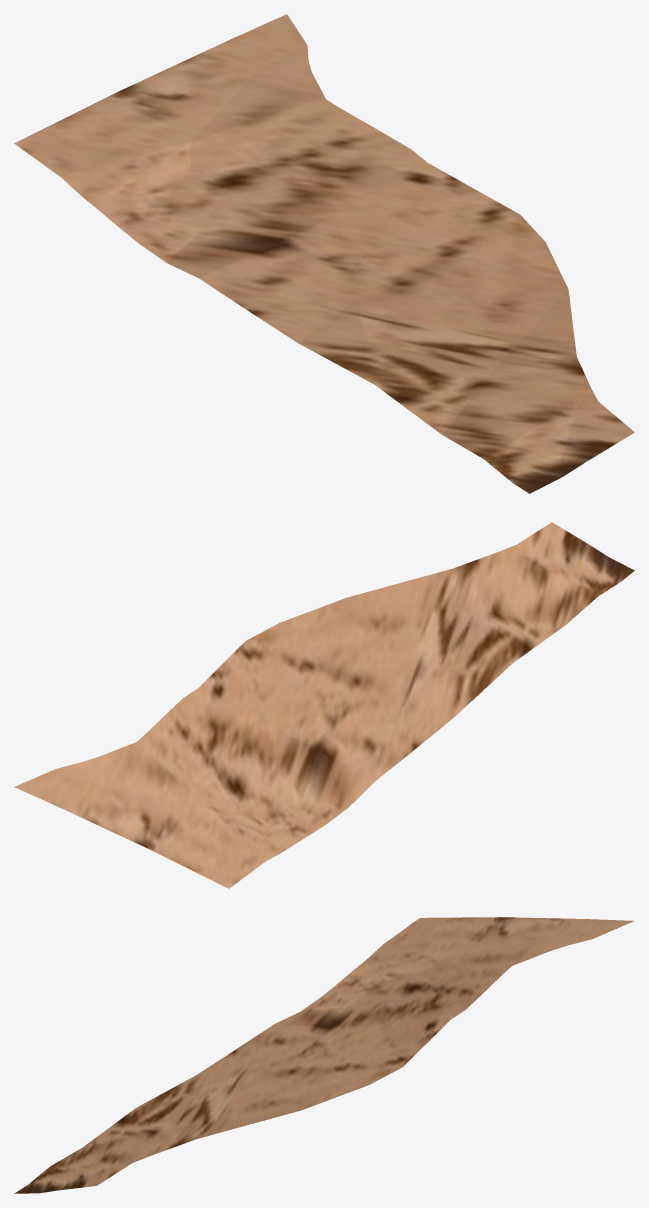
3 views of the same model, one above another, from view 1: azimuth 30°, elevation 25°; view 2: azimuth 150°, elevation 25°; view 3: azimuth 330°, elevation 25° (orthographic). The views are drawn at different scales.
Size of the model in its own units: 0.3193 by 0.0799 by 1.04.
Materials: 1 (1 with a texture image).
